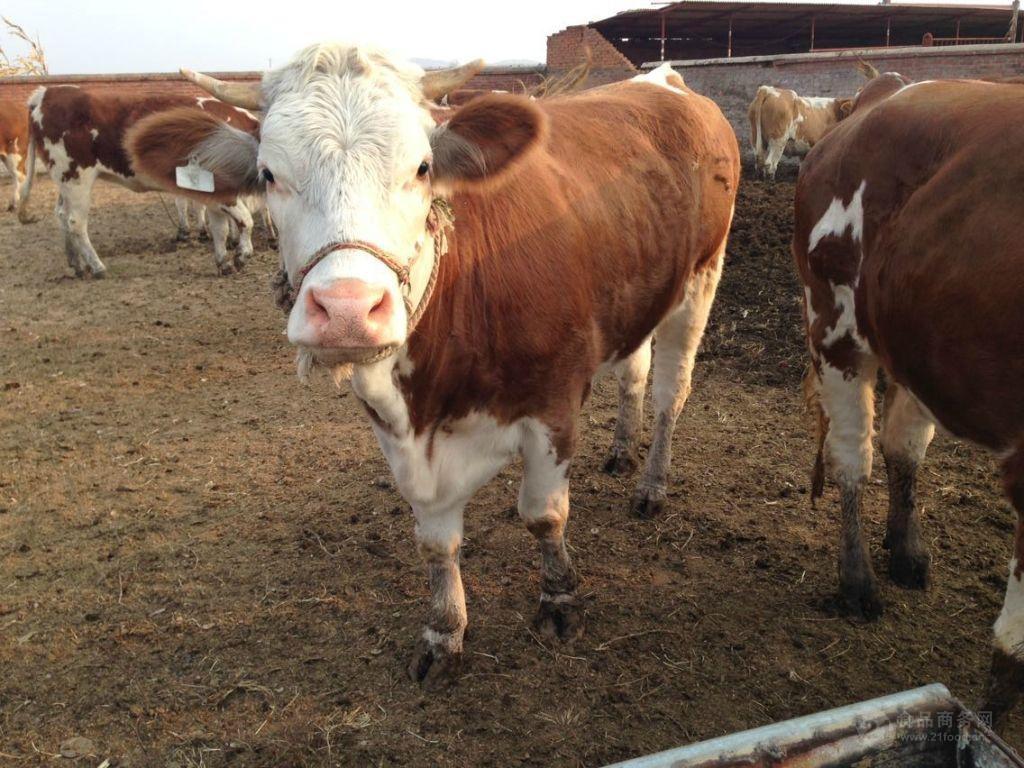background: (13, 78, 261, 283)
